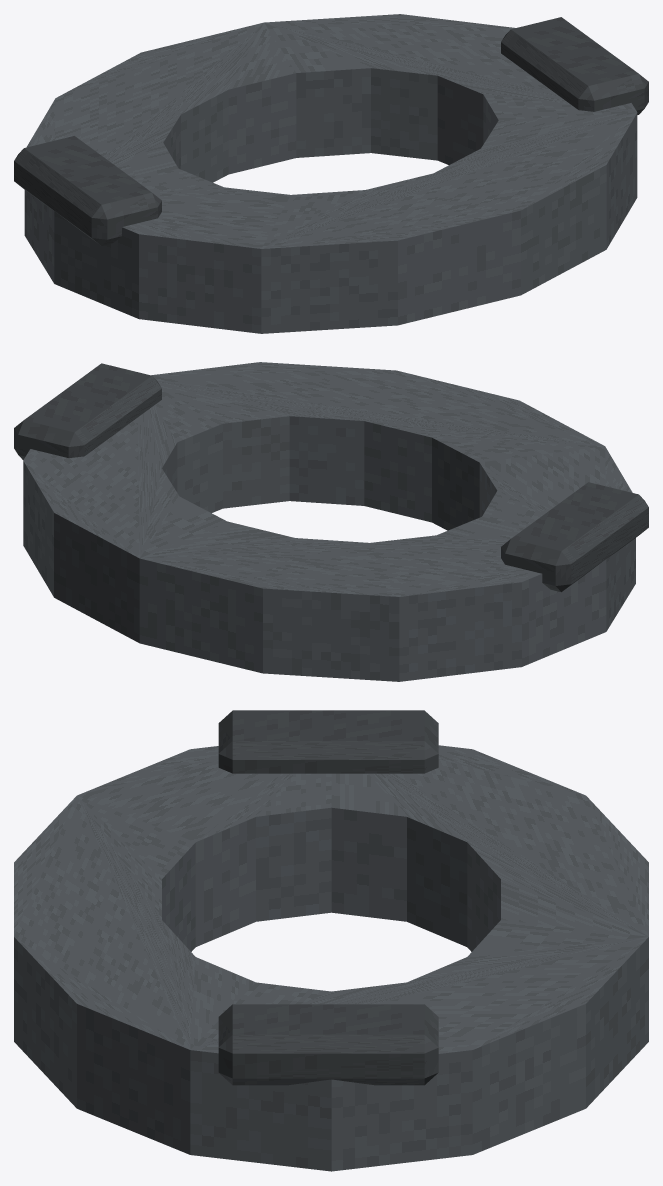
File: iotv_neck_plate.glb
3 renders of one model, top to bottom at view 1: azimuth 30°, elevation 25°; view 2: azimuth 150°, elevation 25°; view 3: azimuth 270°, elevation 25°, orthographic. The views are drawn at different scales.
Parts seen in each view (by area): view 1: block_padded two-part collar, block_neck insert pouch overlap (×2); view 2: block_padded two-part collar, block_neck insert pouch overlap (×2); view 3: block_padded two-part collar, block_neck insert pouch overlap (×2).
Part boxes in pixels (bbox=[...]): block_padded two-part collar: bbox=[24, 14, 637, 333]; block_neck insert pouch overlap (×2): bbox=[14, 17, 648, 245]; block_padded two-part collar: bbox=[23, 362, 635, 681]; block_neck insert pouch overlap (×2): bbox=[14, 363, 648, 592]; block_padded two-part collar: bbox=[14, 745, 648, 1171]; block_neck insert pouch overlap (×2): bbox=[218, 710, 438, 1085].
Bounding box in the file's own units: 0.2141 × 0.0391 × 0.1709.
Materials: 1 (1 with a texture image).
